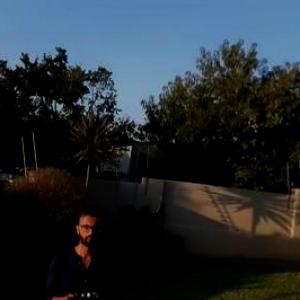follow: (40, 199, 120, 298)
